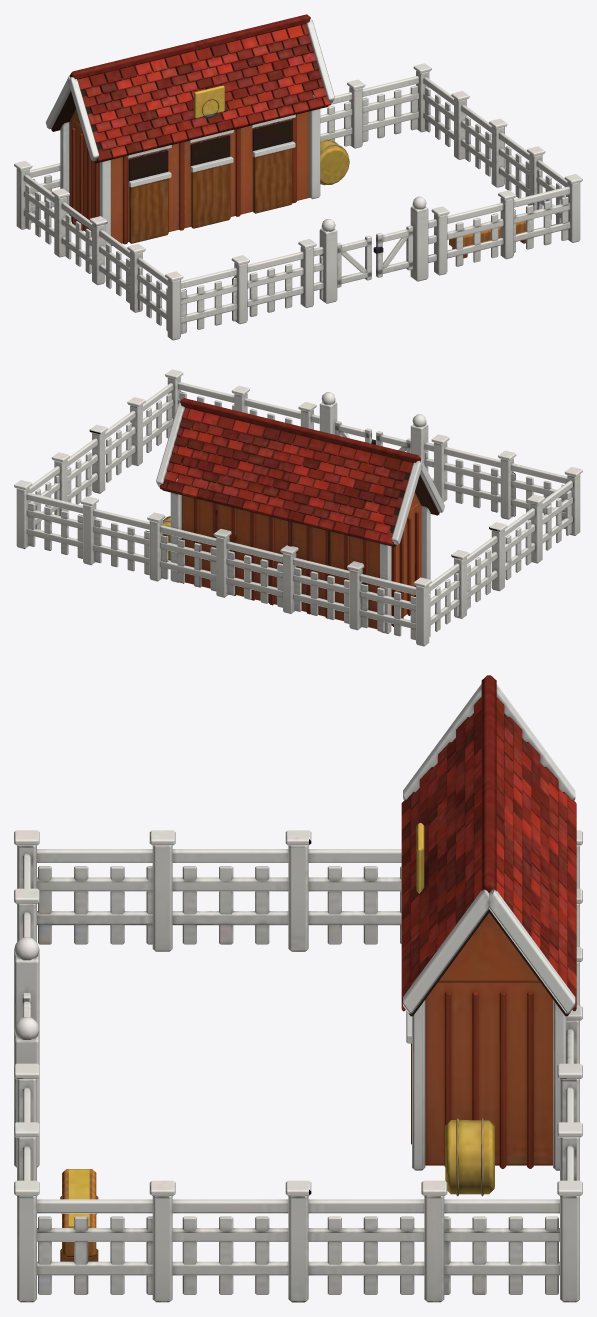
File: stable.glb
The picture shows the model from 3 angles, top to bottom: view 1: azimuth 30°, elevation 25°; view 2: azimuth 150°, elevation 25°; view 3: azimuth 270°, elevation 25°; orthographic projection. The views are drawn at different scales.
Parts seen in each view (by area): view 1: stable, gate1, gate0; view 2: stable, gate1, gate0; view 3: stable.
Part boxes in pixels (x1=…): stable: x1=14, y1=14, x2=582, y2=340; gate1: x1=373, y1=225, x2=413, y2=277; gate0: x1=337, y1=235, x2=371, y2=287; stable: x1=14, y1=369, x2=582, y2=646; gate1: x1=334, y1=420, x2=375, y2=444; gate0: x1=376, y1=431, x2=410, y2=453; stable: x1=14, y1=675, x2=582, y2=1302.
Size of the model in its own units: 2.99 by 1.16 by 1.99.
1 material, 1 textured.
